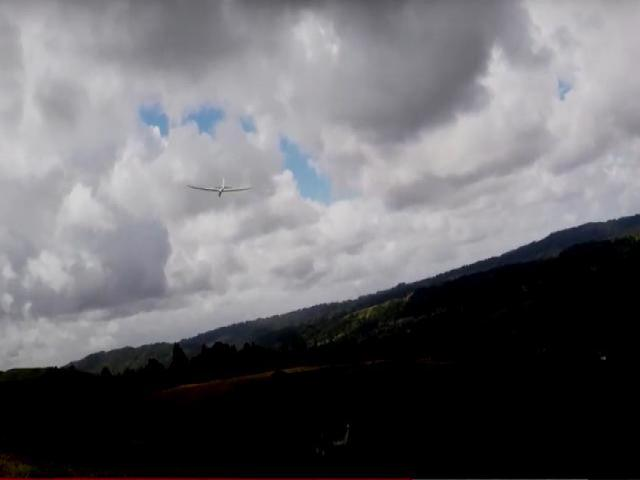iha: (187, 177, 250, 200)
